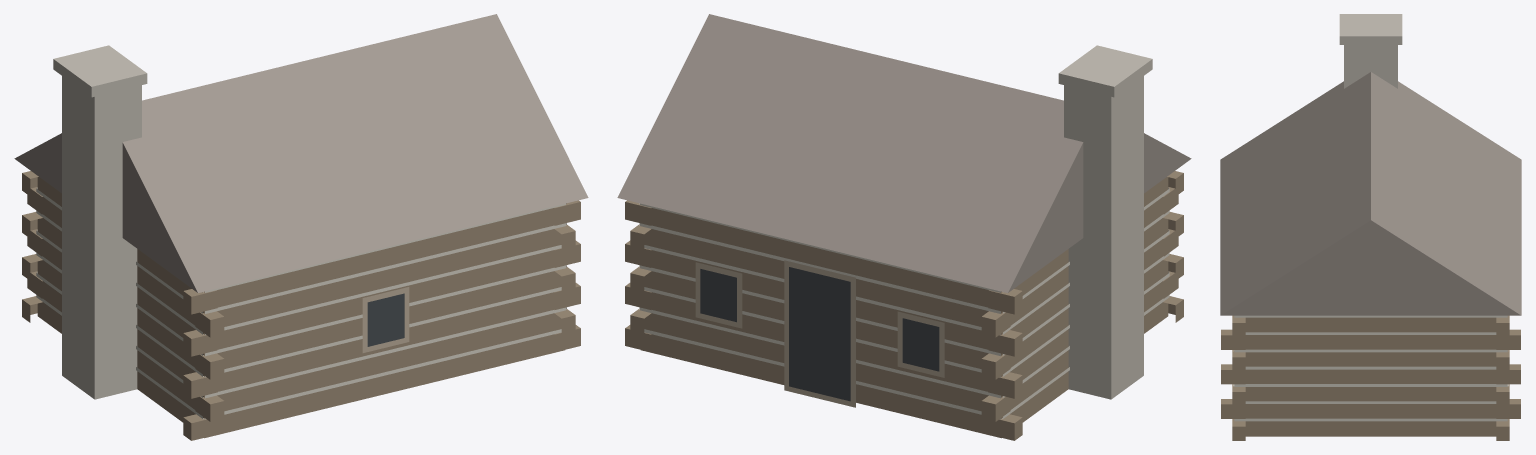
File: philo_carpenter_log_shop__log_1832.glb
The picture shows the model from 3 angles, left to right: view 1: azimuth 30°, elevation 25°; view 2: azimuth 150°, elevation 25°; view 3: azimuth 270°, elevation 25°; orthographic projection. The views are drawn at different scales.
Visible parts, largest first — view 1: philo_carpenter_log_shop__log_1832; view 2: philo_carpenter_log_shop__log_1832; view 3: philo_carpenter_log_shop__log_1832.
Boxes of the visible parts, bbox=[...] form: philo_carpenter_log_shop__log_1832: bbox=[14, 14, 588, 440]; philo_carpenter_log_shop__log_1832: bbox=[617, 14, 1191, 440]; philo_carpenter_log_shop__log_1832: bbox=[1220, 14, 1521, 440].
Bounding box in the file's own units: 7.17 × 5.17 × 5.38.
